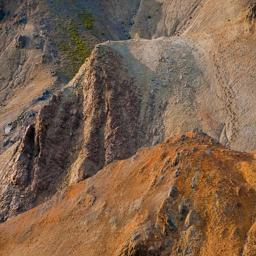Cuckoo: (3, 107, 28, 137)
